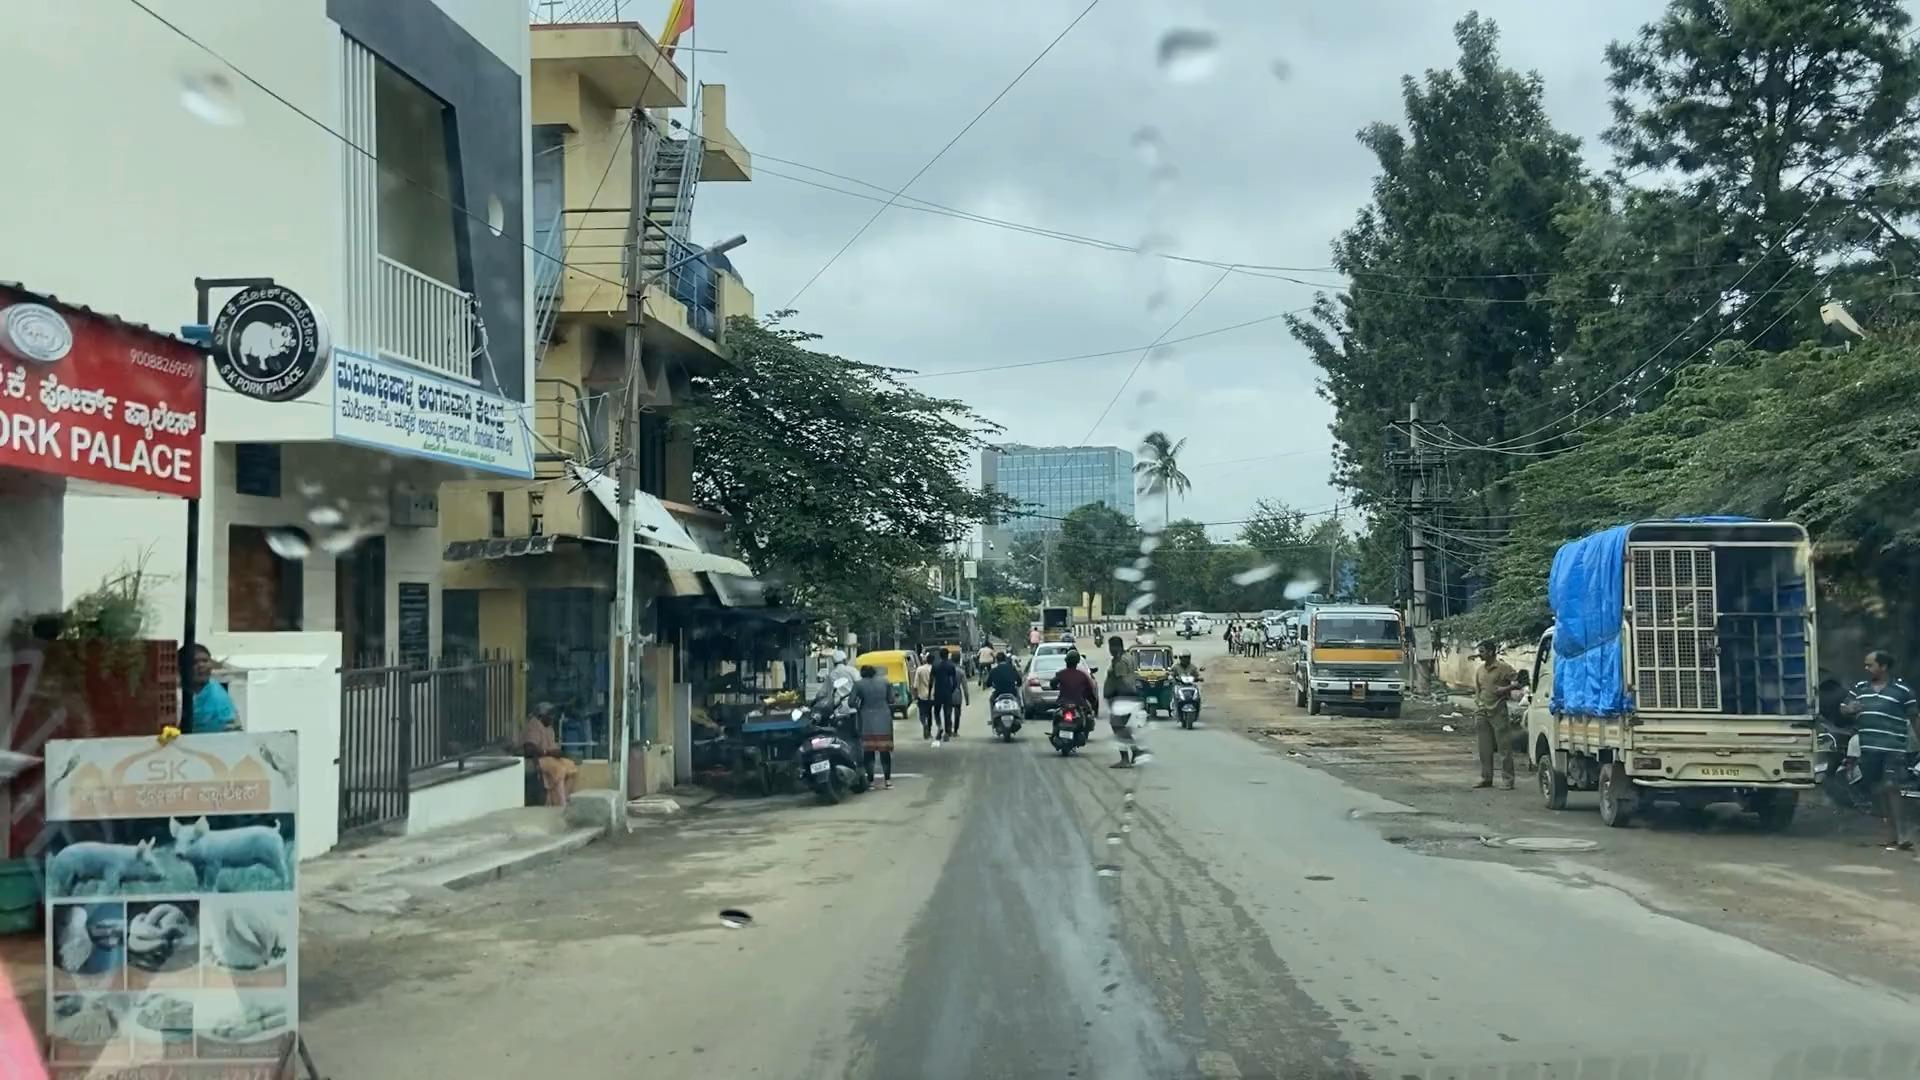RoadDamages: (1360, 800, 1611, 930), (533, 844, 766, 955)
